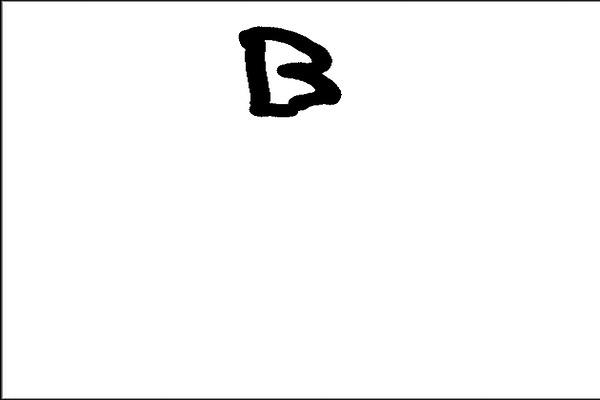B: (232, 19, 349, 124)
